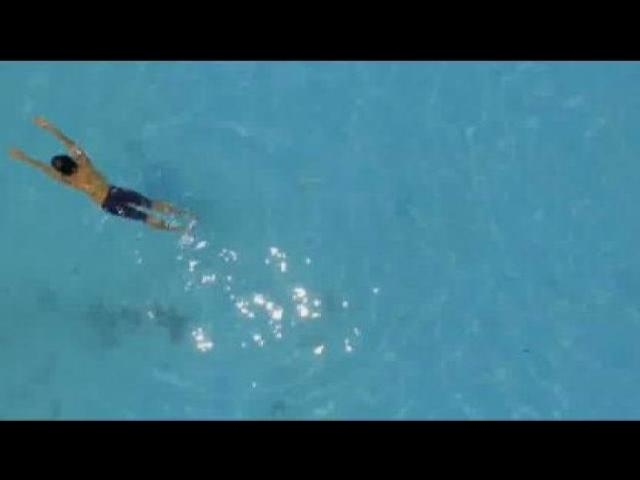swimming: (10, 117, 204, 254)
